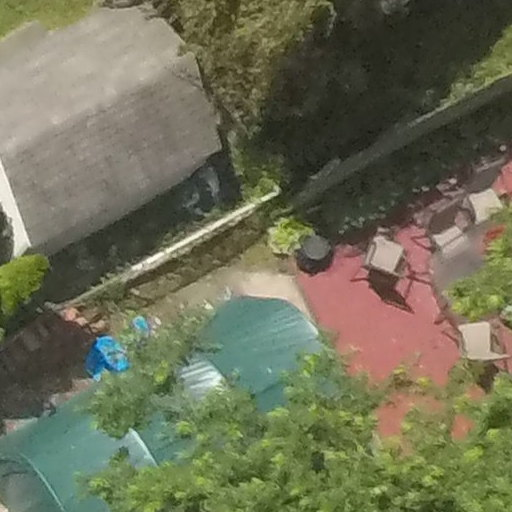chair: (359, 218, 419, 292), (451, 322, 512, 372)
tarp: (1, 272, 348, 509), (77, 313, 154, 382)
